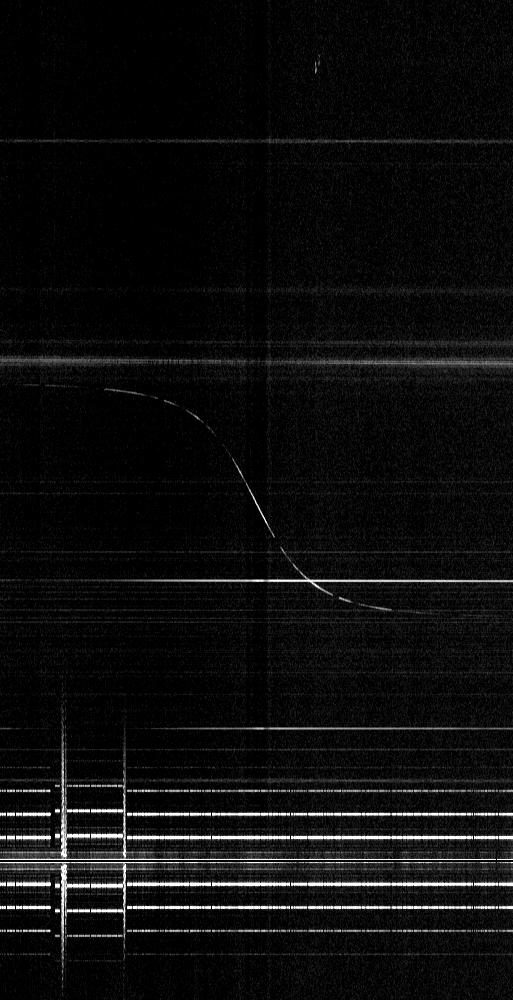signal: (0, 0, 512, 999)
